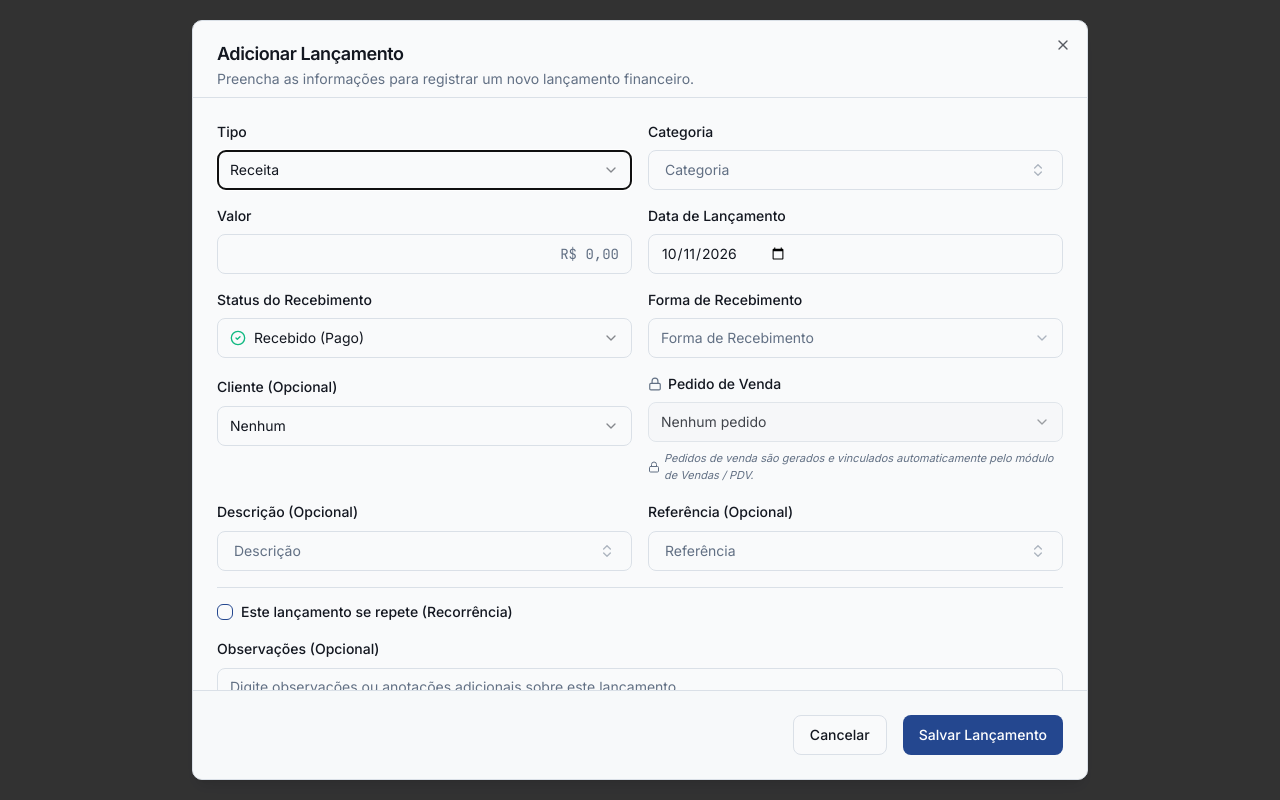
Scenario: TransactionDialog Component › deve validar campos obrigatórios ao tentar salvar um formulário em branco
This screenshot has width=1280, height=800.
Click the button "Salvar Lançamento": (983, 735) [903,715,1063,755]
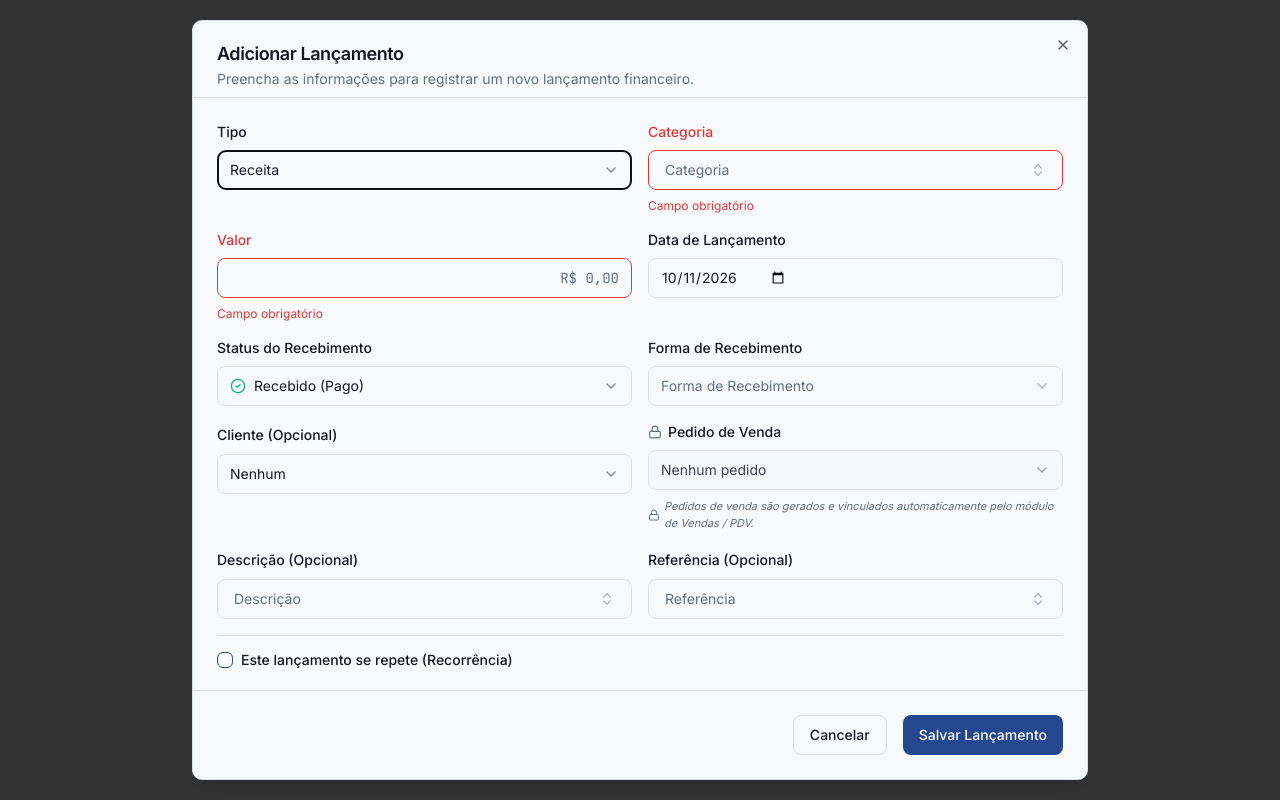
expect the 1st text "Campo obrigatório" is shown: met, box [648,198,754,213]
